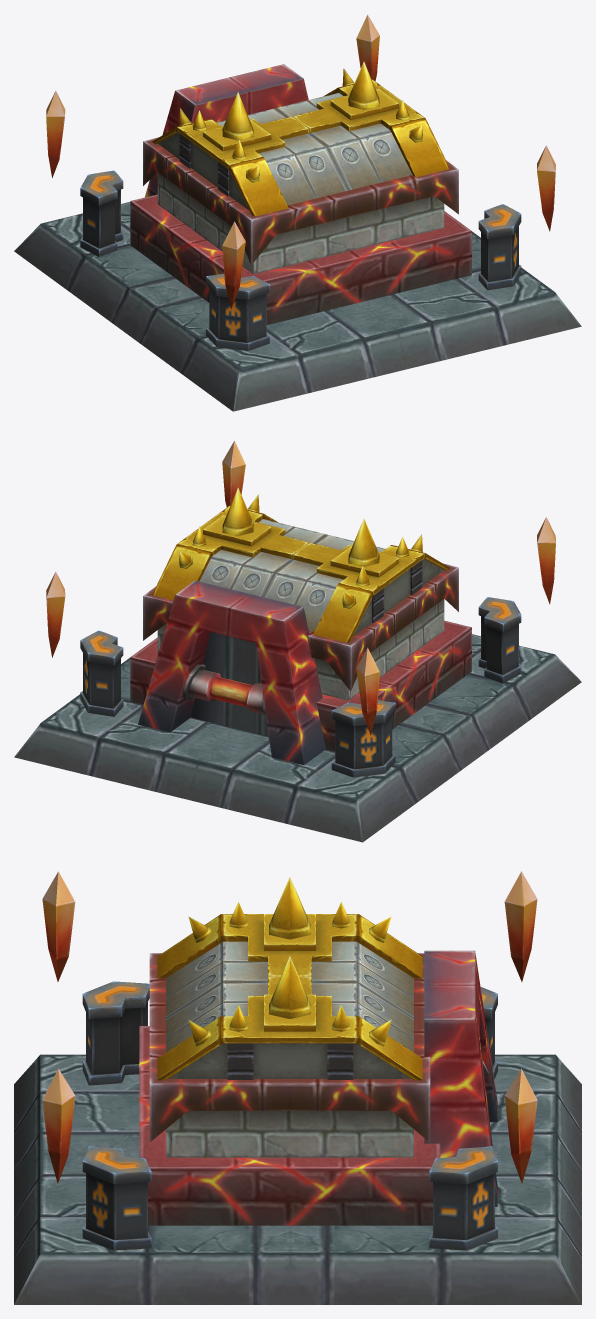
Rendered from The main city_025_LV05_1.FBX.
The picture shows the model from 3 angles, top to bottom: view 1: azimuth 30°, elevation 25°; view 2: azimuth 150°, elevation 25°; view 3: azimuth 270°, elevation 25°; orthographic projection. The views are drawn at different scales.
Visible parts, largest first — view 1: The main city_025_LV05_1; view 2: The main city_025_LV05_1; view 3: The main city_025_LV05_1.
Part boxes in pixels (<box>): The main city_025_LV05_1: <box>14,14,581,411</box>; The main city_025_LV05_1: <box>14,441,581,842</box>; The main city_025_LV05_1: <box>14,871,581,1304</box>.
Size of the model in its own units: 30.84 by 18.15 by 33.56.
Materials: 1 (1 with a texture image).
